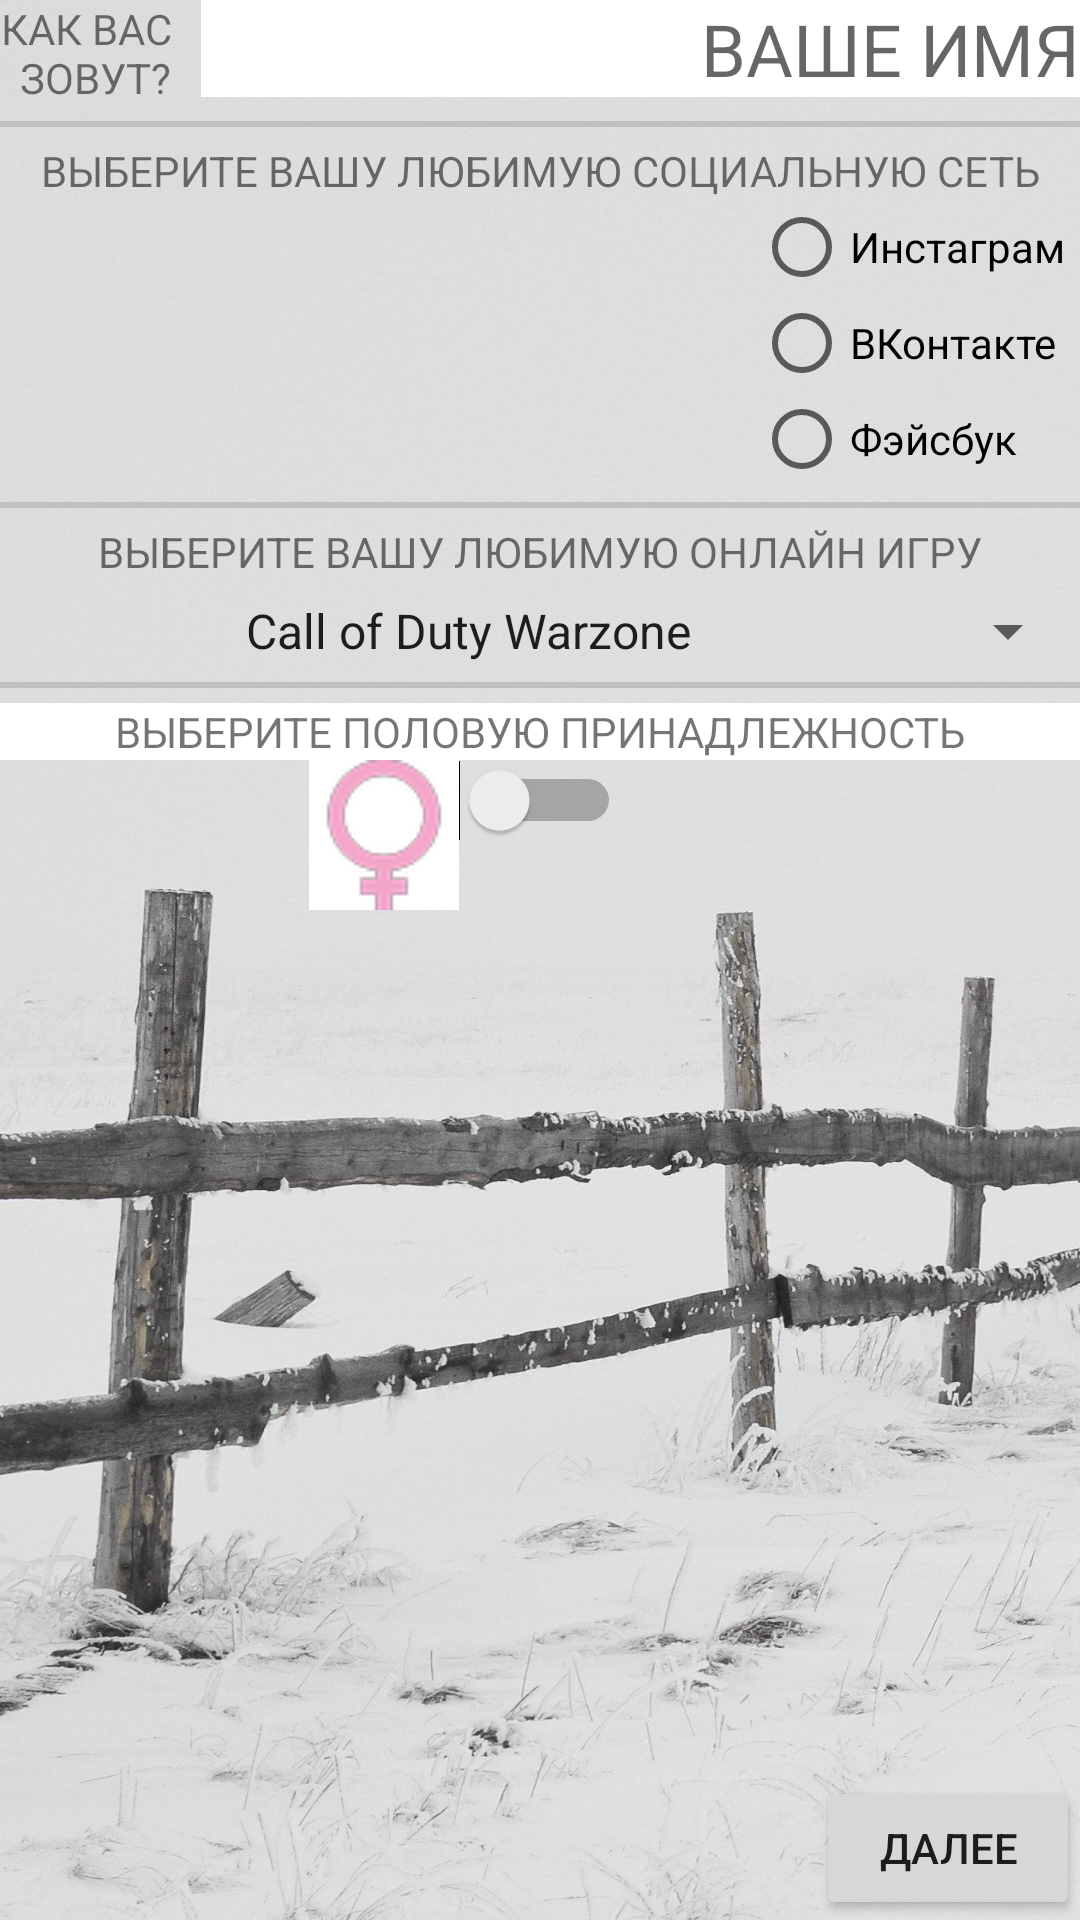

Icon bounding boxes for this 1080px×1920px phone screenshot, format (x1=x1, y1=y1, x2=x2, y2=y2):
woman symbol: (x1=326, y1=760, x2=442, y2=910)
